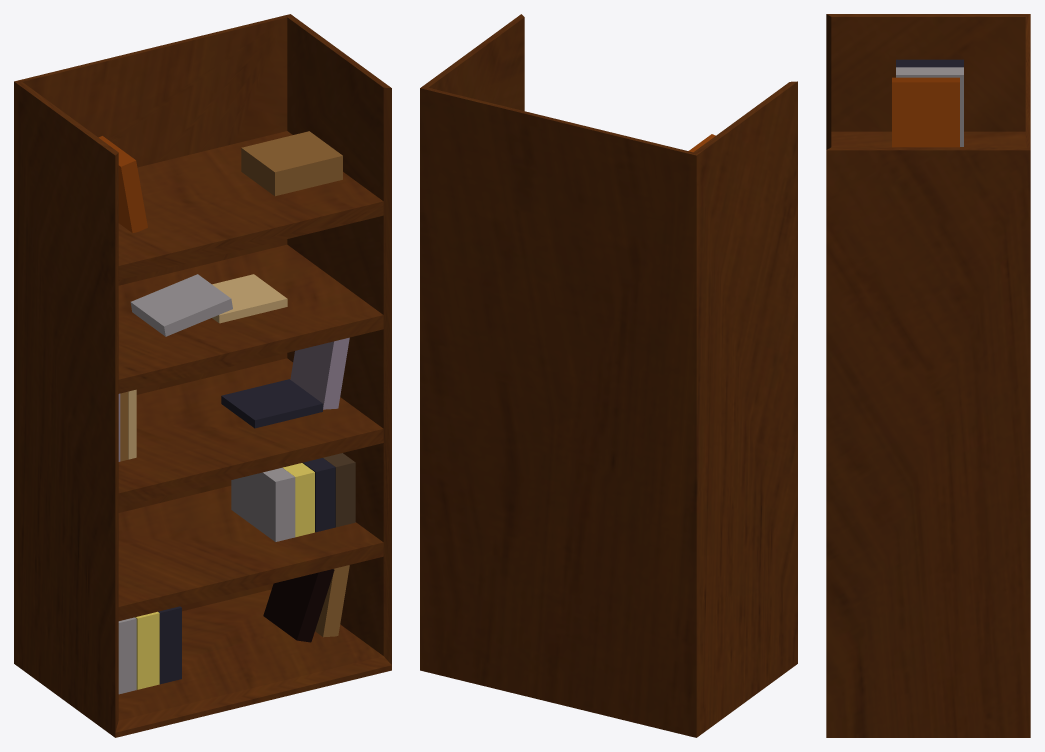
The model's file is ov_bookcase.FBX.
3 renders of one model, left to right at view 1: azimuth 30°, elevation 25°; view 2: azimuth 150°, elevation 25°; view 3: azimuth 270°, elevation 25°, orthographic.
Parts seen in each view (by area): view 1: Box047; view 2: Box047; view 3: Box047.
Boxes of the visible parts, left/top/right/bottom form: Box047: left=14, top=14, right=391, bottom=737; Box047: left=420, top=14, right=797, bottom=737; Box047: left=826, top=14, right=1030, bottom=737.
Bounding box in the file's own units: 46.6 × 93.78 × 29.58.
